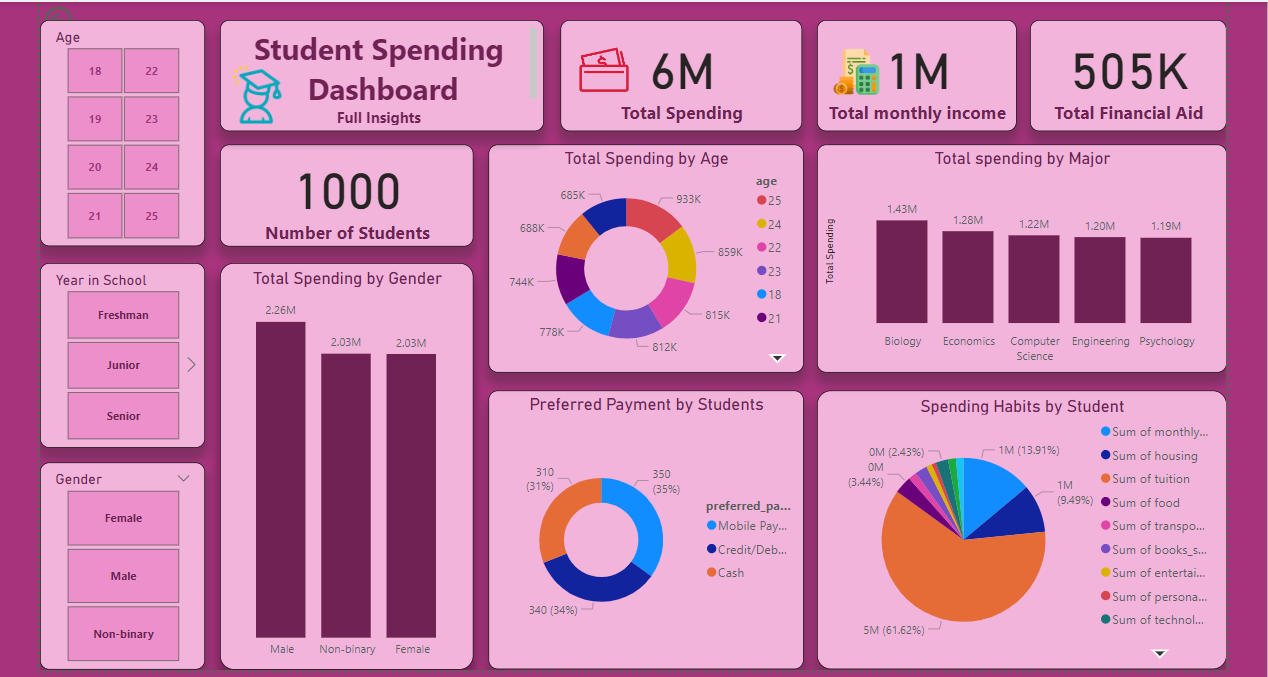

What the dashboard file says about the page in this screenshot:
{"tool":"powerbi","page":{"name":"Page 1","canvas":[1280,720],"ordinal":0},"visuals":[{"type":"pieChart","title":"Spending Habits by Student","fields":{"Y":["Sum(Sheet1.monthly_income)","Sum(Sheet1.housing)","Sum(Sheet1.tuition)","Sum(Sheet1.food)","Sum(Sheet1.transportation)","Sum(Sheet1.books_supplies)","Sum(Sheet1.entertainment)","Sum(Sheet1.personal_care)","Sum(Sheet1.technology)","Sum(Sheet1.health_wellness)","Sum(Sheet1.miscellaneous)"]},"box":[838.1,419.1,441.7,300.9],"z":0},{"type":"actionButton","box":[0,0,100,40],"z":1000},{"type":"donutChart","title":"Preferred Payment by Student","fields":{"Y":["Sheet1.Number of Students"],"Category":["Sheet1.preferred_payment_method"]},"box":[483.8,419.1,339.8,300.9],"z":2000},{"type":"card","fields":{"Values":["Sheet1.Total monthly income"]},"box":[838.1,19.4,215.2,119.7],"z":3000},{"type":"card","fields":{"Values":["Sheet1.Total Spending"]},"box":[563.1,16.2,260.5,119.7],"z":4000},{"type":"card","fields":{"Values":["Sheet1.Number of Students"]},"box":[194.2,153.7,273.4,110],"z":5000},{"type":"card","fields":{"Values":["Sheet1.Total Financial Aid"]},"box":[1067.9,19.4,212,119.7],"z":6000},{"type":"columnChart","title":"Total spending by Major","fields":{"Category":["Sheet1.major"],"Y":["Sheet1.Total spending"]},"box":[838.1,153.7,441.7,245.9],"z":7000},{"type":"slicer","fields":{"Values":["Sheet1.year_in_school"]},"box":[0,281.5,178,199],"z":8000},{"type":"clusteredColumnChart","title":"Total Spending by Gender","fields":{"Y":["Sheet1.Total spending"],"Category":["Sheet1.gender"]},"box":[194.2,281.5,273.4,438.5],"z":9000},{"type":"donutChart","title":"Total Spending by Age","fields":{"Y":["Sheet1.Total spending"],"Category":["Sheet1.age"]},"box":[483.8,153.7,339.8,245.9],"z":10000},{"type":"slicer","fields":{"Values":["Sheet1.age"]},"box":[0,19.4,178,244.3],"z":11000},{"type":"slicer","fields":{"Values":["Sheet1.gender"]},"box":[0,496.7,178,223.3],"z":12000},{"type":"textbox","box":[194.2,19.4,349.5,119.7],"z":13000},{"type":"image","box":[184.4,63.1,98.7,72.8],"z":14000},{"type":"image","box":[564.7,32.4,90.6,74.4],"z":15000},{"type":"image","box":[841.3,45.3,79.3,59.9],"z":16000}]}

Visuals, with their boxes in screenshot pixels (x1, y1, x2, y2):
"Spending Habits by Student" pieChart: 813,389,1223,668
actionButton: 36,0,129,37
"Preferred Payment by Student" donutChart: 485,389,800,668
card - Sheet1.Total monthly income: 813,18,1013,129
card - Sheet1.Total Spending: 558,15,800,126
card - Sheet1.Number of Students: 216,143,470,244
card - Sheet1.Total Financial Aid: 1026,18,1223,129
"Total spending by Major" columnChart: 813,143,1223,371
slicer - Sheet1.year_in_school: 36,261,201,446
"Total Spending by Gender" clusteredColumnChart: 216,261,470,668
"Total Spending by Age" donutChart: 485,143,800,371
slicer - Sheet1.age: 36,18,201,244
slicer - Sheet1.gender: 36,461,201,668
textbox: 216,18,540,129
image: 207,59,299,126
image: 560,30,644,99
image: 816,42,890,98
